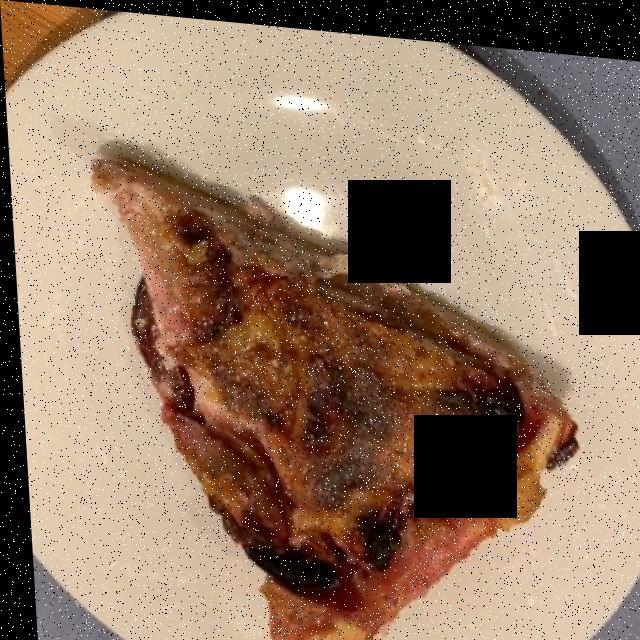pie: (74, 150, 574, 640), (85, 158, 581, 640), (100, 166, 565, 640)
